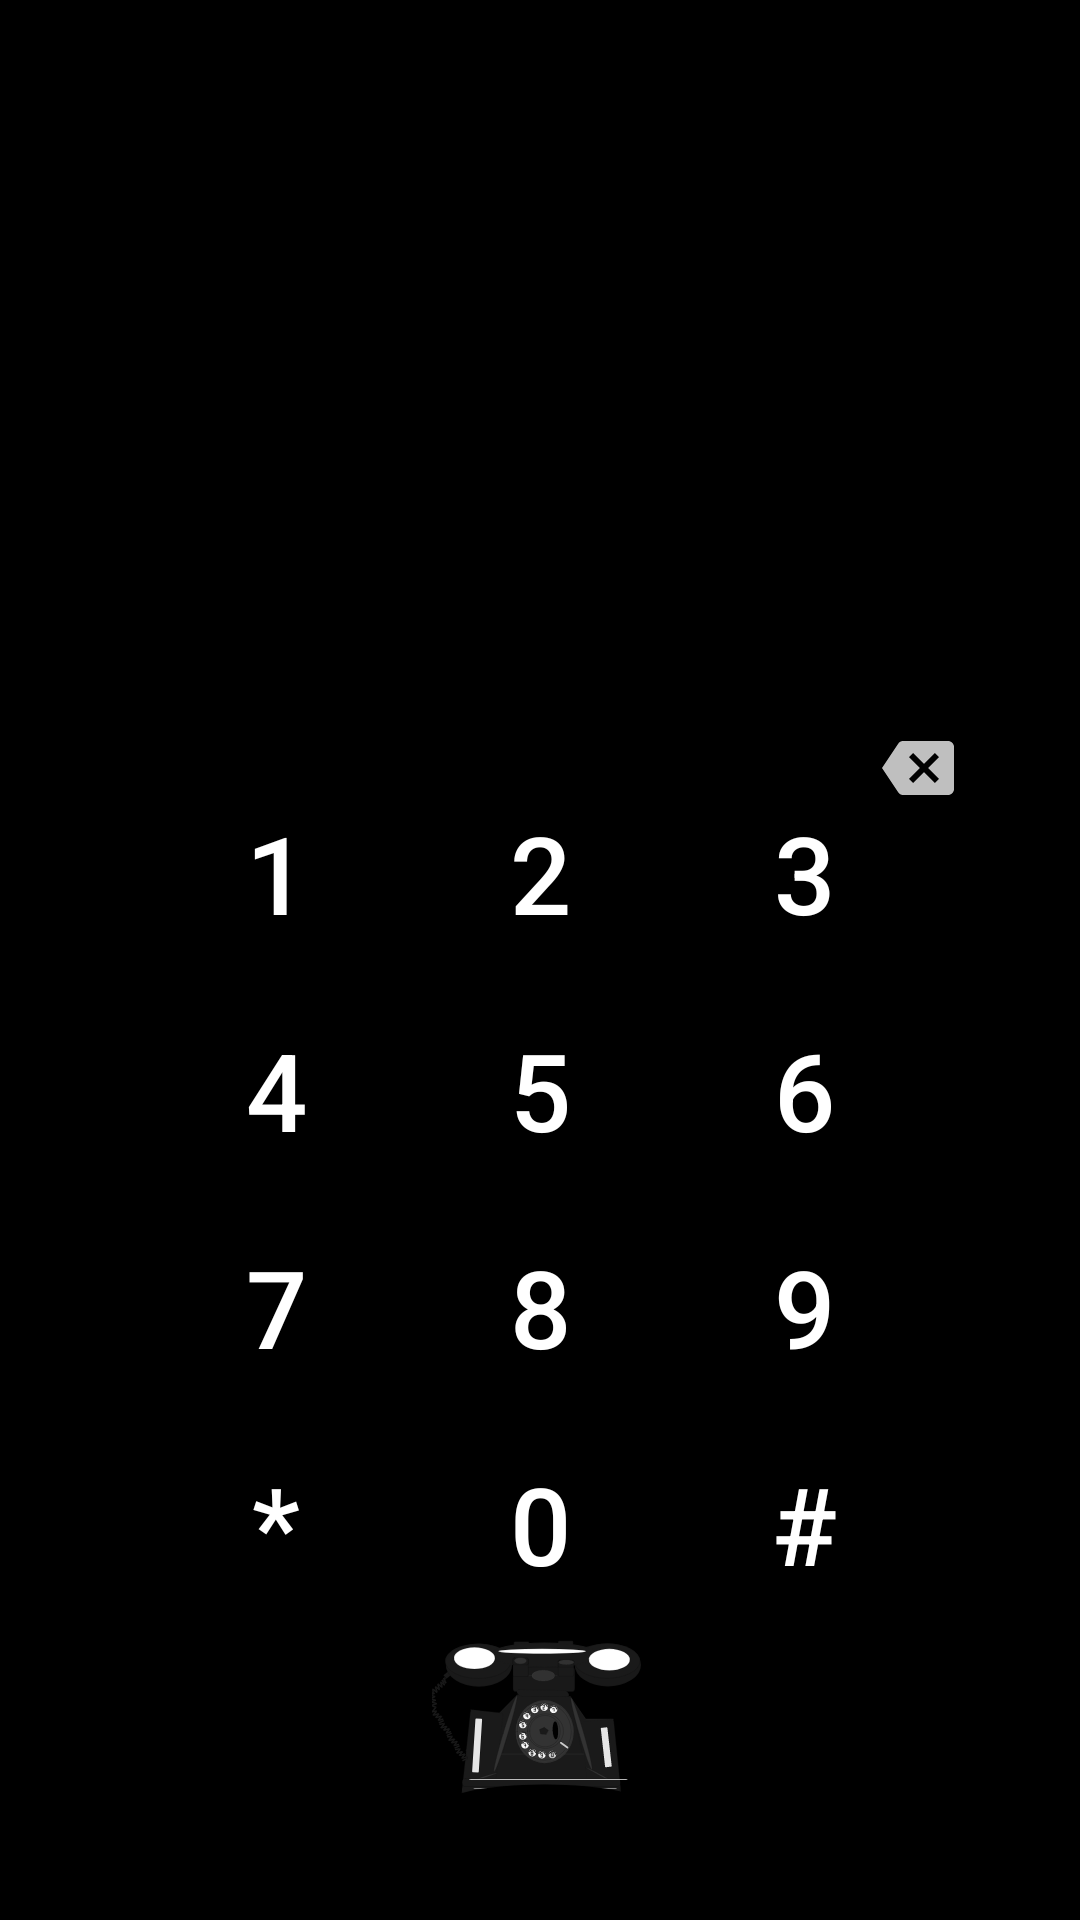

Named icons in this screenshot (1080px×1920px) and their bounding boxes, (x1, y1, x2, y2):
call icon: (432, 1642, 640, 1792)
